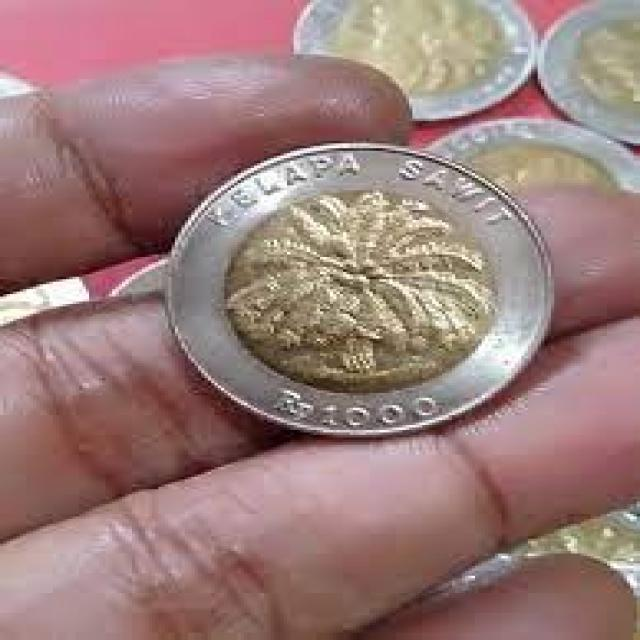1000-sawit: (161, 135, 576, 450)
